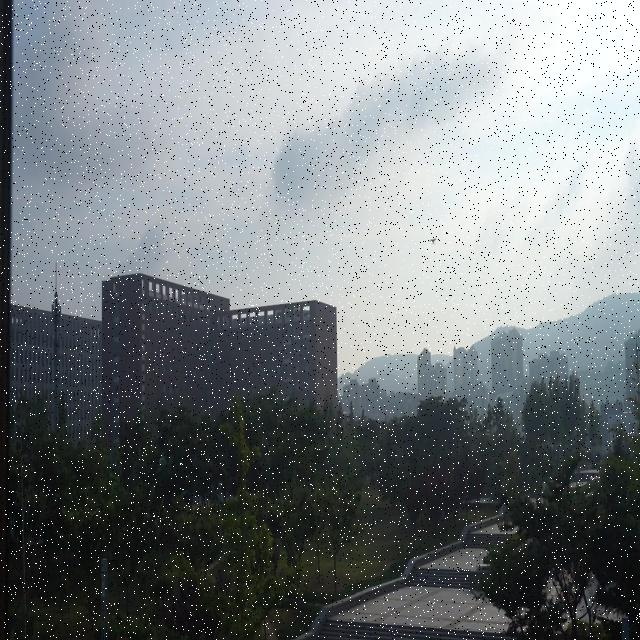UAV: (428, 237, 437, 245)
